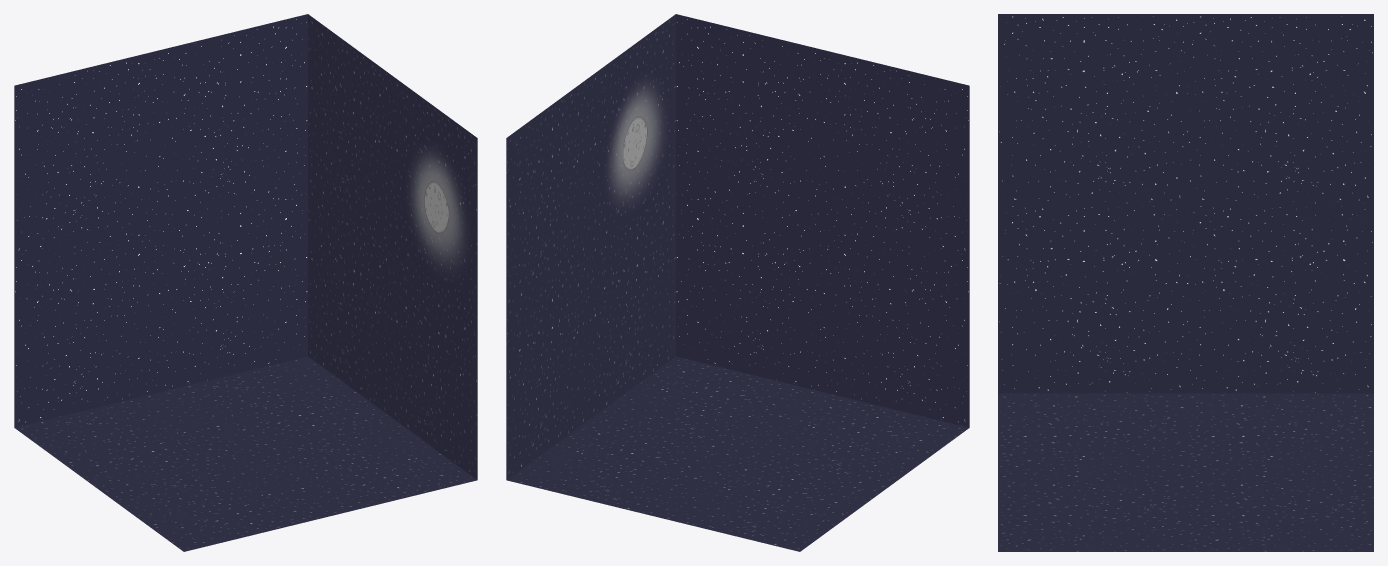
Rendered from EndCeuEstrelas.glb.
The picture shows the model from 3 angles, left to right: view 1: azimuth 30°, elevation 25°; view 2: azimuth 150°, elevation 25°; view 3: azimuth 270°, elevation 25°; orthographic projection. The views are drawn at different scales.
Visible parts, largest first — view 1: Setor_0, Setor_1; view 2: Setor_0, Setor_1; view 3: Setor_-2, Setor_0.
Part boxes in pixels (box(x1,y1,x2,y2)): Setor_0: box(14, 14, 476, 551); Setor_1: box(308, 14, 477, 479); Setor_0: box(507, 14, 969, 551); Setor_1: box(506, 14, 675, 479); Setor_-2: box(998, 14, 1373, 393); Setor_0: box(998, 393, 1373, 551).
Size of the model in its own units: 88 by 98 by 88.
Materials: 1 (1 with a texture image).
